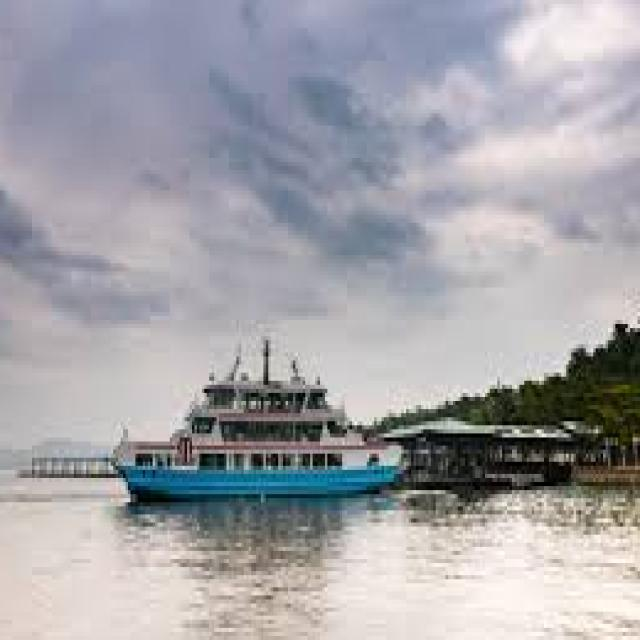passenger ship: (106, 343, 403, 510)
